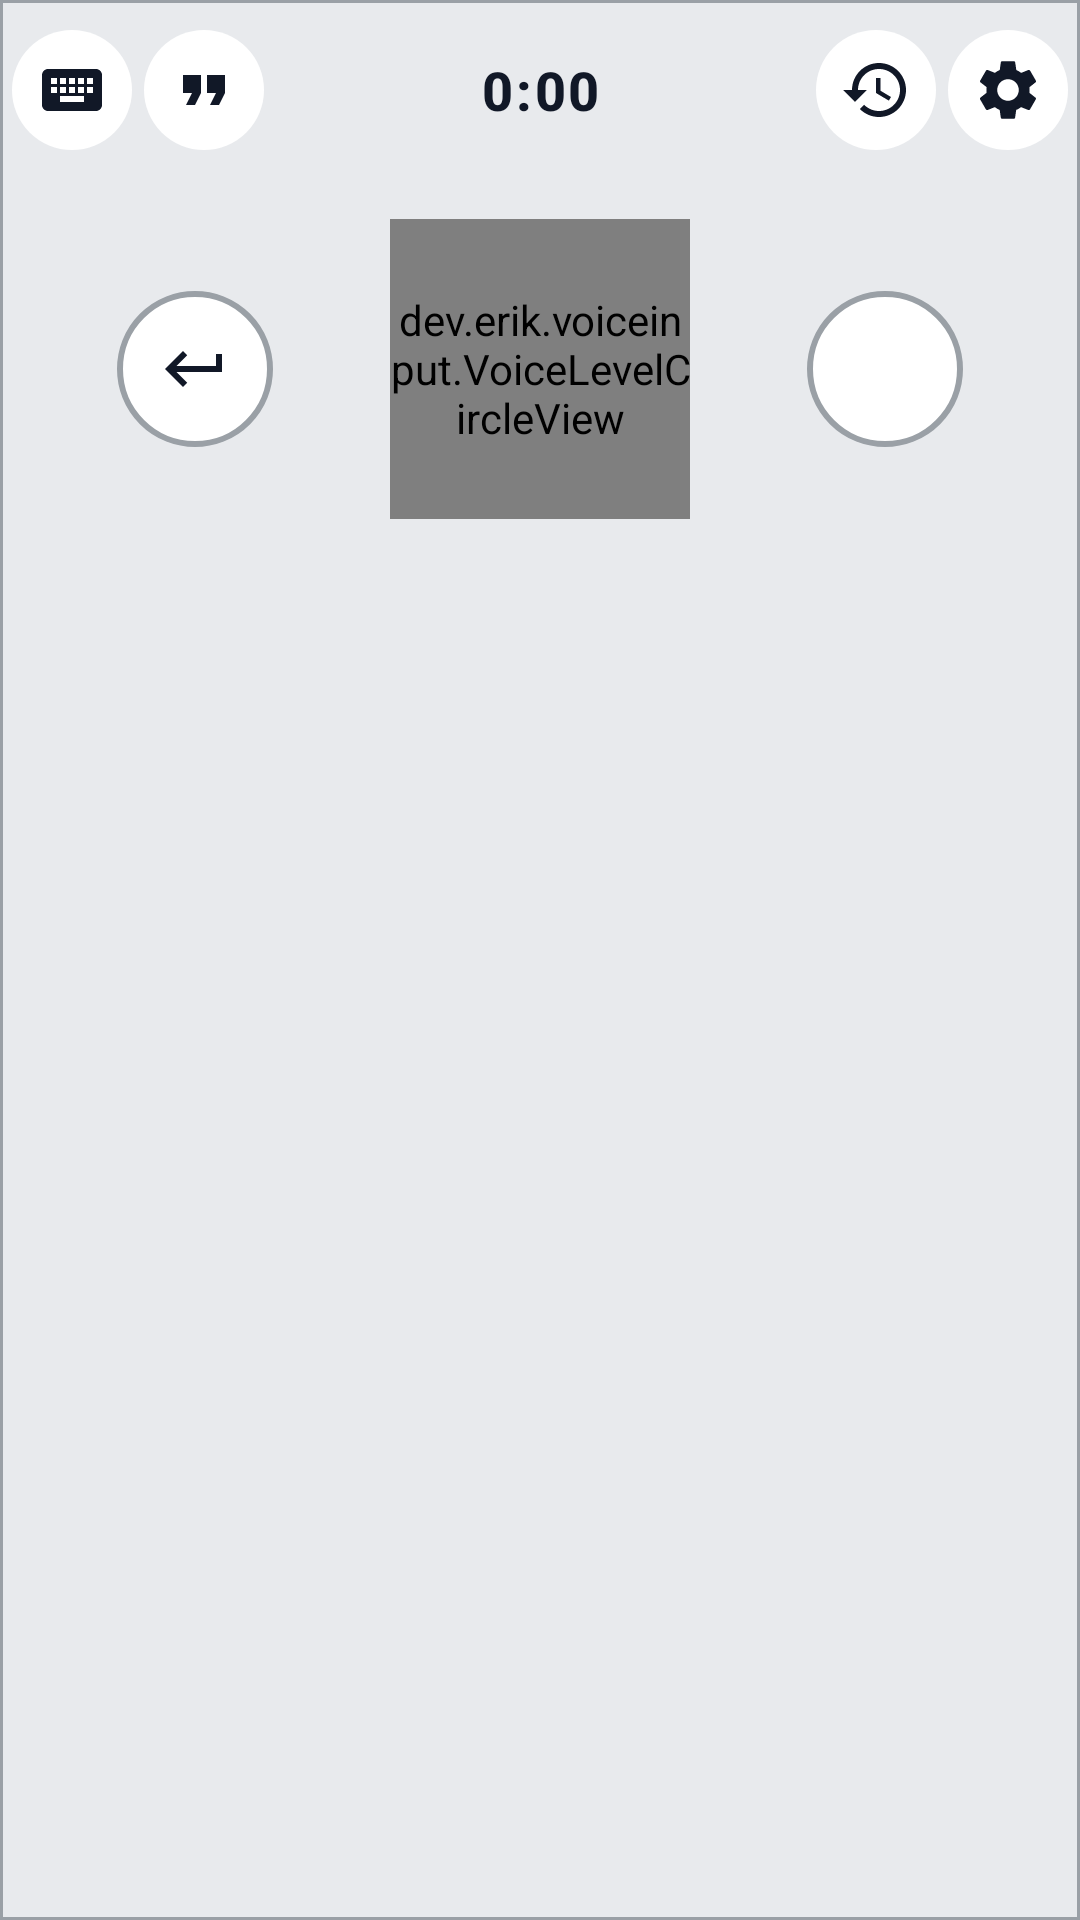

Named icons in this screenshot (1080 x 1920) and their centers, (x=x, y=y):
History: (x=876, y=90)
New line / paragraph: (x=195, y=369)
Settings: (x=1008, y=90)
Switch to typing keyboard: (x=72, y=90)
